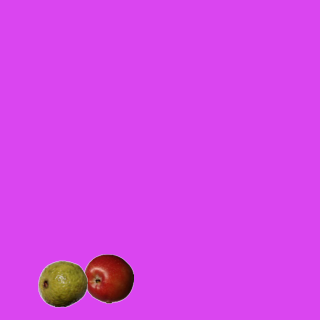Apple Braeburn: (83, 253, 133, 303)
Guava: (37, 258, 87, 308)
